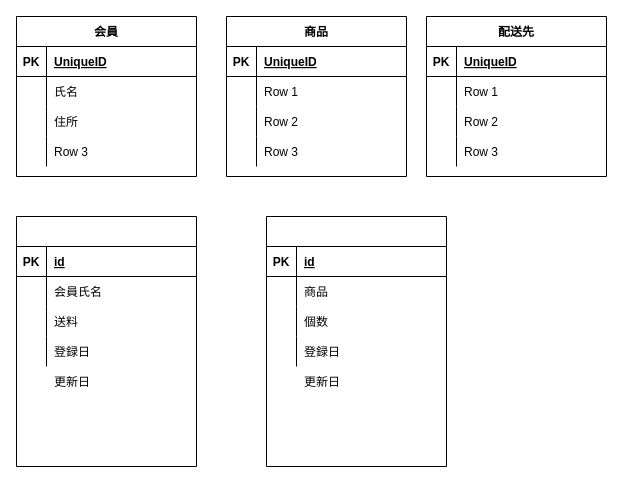
The diagram is 623 pixels wide and 483 high, and some of its shapes have lost their labels. The box of each missing label's shape, as (x1, y1, x2, y2) in pixels:
注文: (16, 216, 196, 466)
注文商品: (266, 216, 446, 466)
